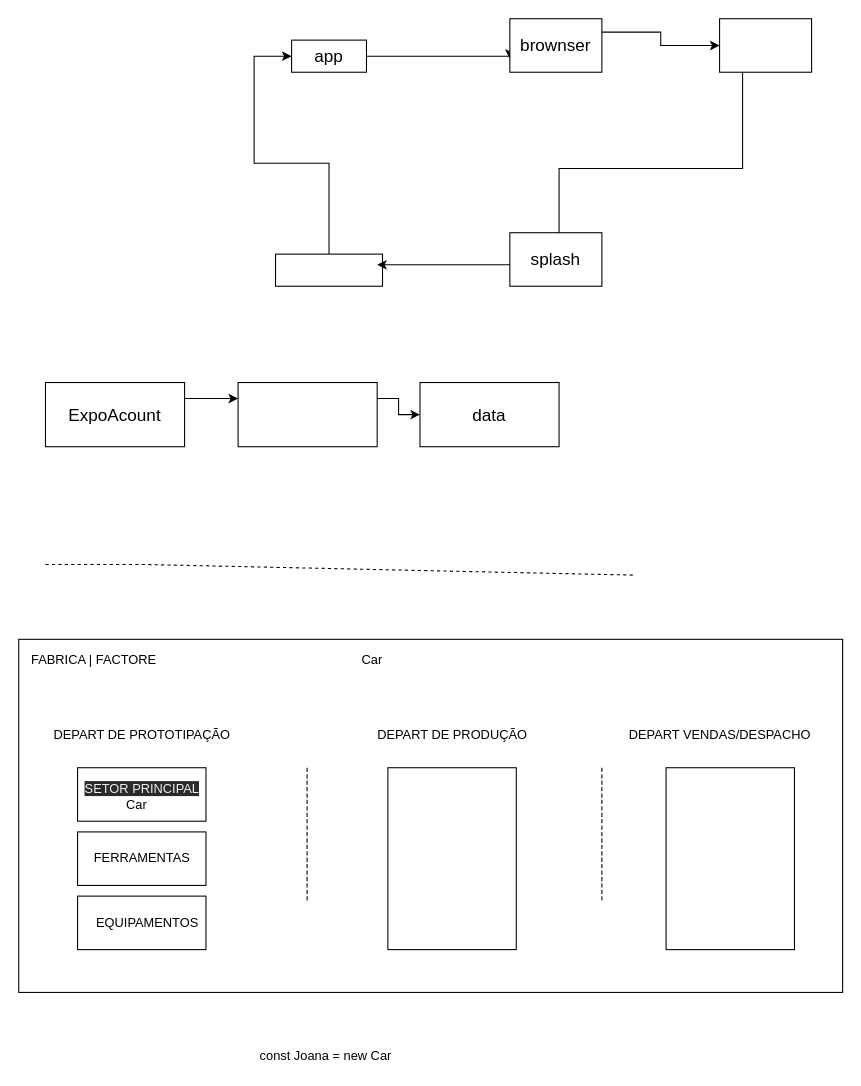
Some shapes in this 861 by 1086 pixel diagram are drawn without their labels. The shapes that lost their labels are listed below. From the top down, each one's box as (x1, y1, x2, y2) in pixels, then its label:
(719, 18, 812, 72): google api's
(274, 253, 383, 286): Expo auth
(237, 381, 377, 447): create project
